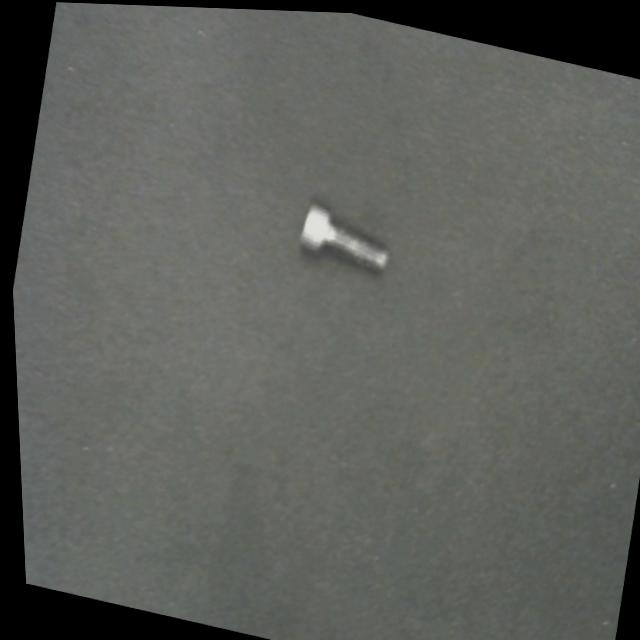SocketHeadCapScrew: (292, 197, 395, 274)
